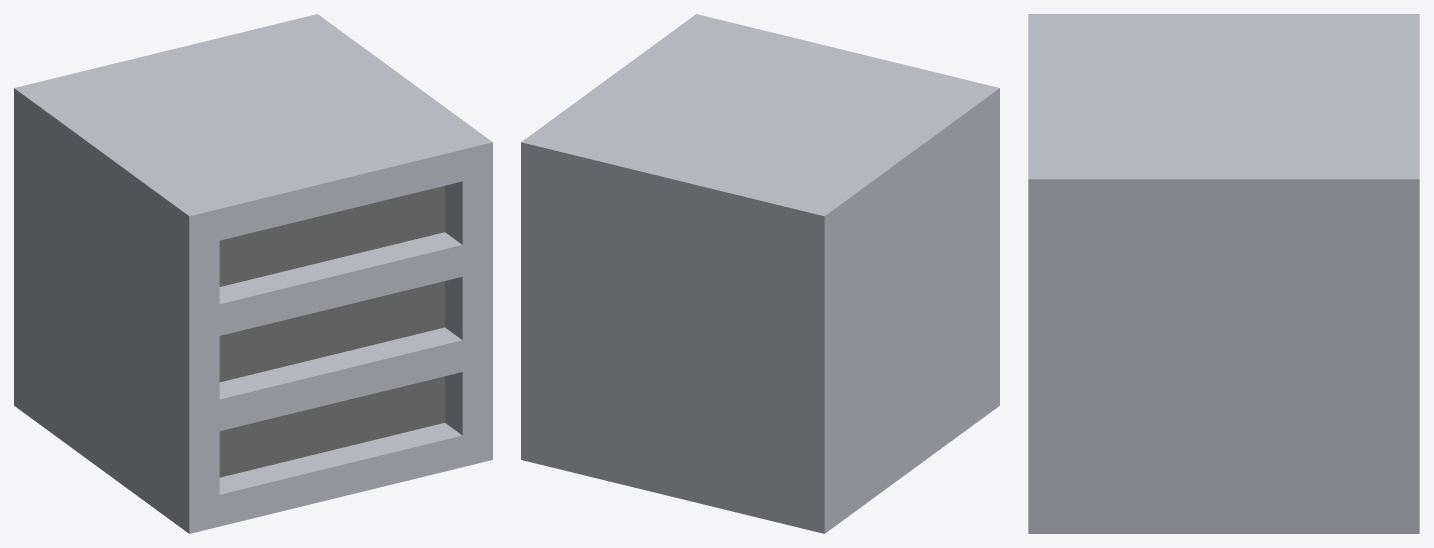
The model's file is A3D_sample_ladder.fbx.
3 views of the same model, side by side, from view 1: azimuth 30°, elevation 25°; view 2: azimuth 150°, elevation 25°; view 3: azimuth 270°, elevation 25° (orthographic). The views are drawn at different scales.
Parts seen in each view (by area): view 1: castle_ladder_middle; view 2: castle_ladder_middle; view 3: castle_ladder_middle.
Part boxes in pixels (x1,y1,x2,y2): castle_ladder_middle: [14, 14, 492, 533]; castle_ladder_middle: [521, 14, 999, 533]; castle_ladder_middle: [1028, 14, 1419, 533].
Size of the model in its own units: 10 by 10 by 10.
